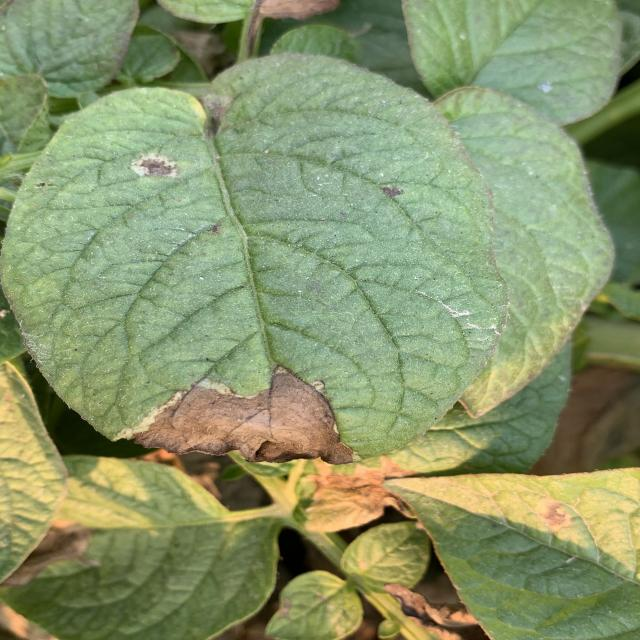lateblight: (130, 366, 353, 464), (130, 152, 178, 178)
